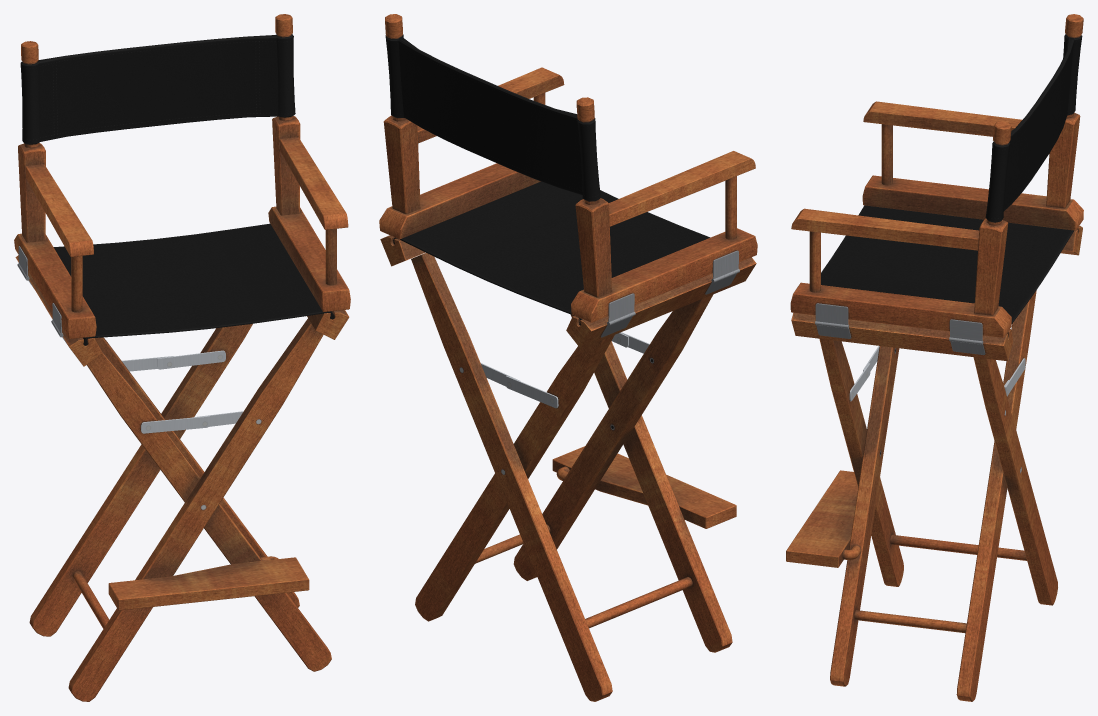
3 renders of one model, left to right at view 1: azimuth 30°, elevation 25°; view 2: azimuth 150°, elevation 25°; view 3: azimuth 270°, elevation 25°, orthographic. The views are drawn at different scales.
Parts seen in each view (by area): view 1: backRest_low, seat_low, outer_front_leg_low, outer_back_leg_low, inner_front_leg_low, footrest_low, armRest_bottom_L_low, armRest_bottom_R_low, armRest_top_R_low_, armRest_top_L_low, backRest_support_R_low, backRest_support_L_low (+8 smaller); view 2: seat_low, backRest_low, outer_back_leg_low, inner_front_leg_low, inner_back_leg_low, outer_front_leg_low, armRest_bottom_R_low, armRest_bottom_L_low, footrest_low, armRest_top_R_low_, backRest_support_R_low, backRest_support_L_low (+8 smaller); view 3: seat_low, inner_front_leg_low, inner_back_leg_low, backRest_low, outer_back_leg_low, armRest_bottom_R_low, armRest_bottom_L_low, outer_front_leg_low, footrest_low, armRest_top_L_low, legs_top_L_low, armRest_top_R_low_ (+8 smaller).
Part boxes in pixels (x1,y1,x2,y2): backRest_low: (20, 34, 295, 144); seat_low: (53, 223, 334, 345); outer_front_leg_low: (68, 318, 323, 701); outer_back_leg_low: (29, 323, 252, 636); inner_front_leg_low: (87, 349, 331, 671); footrest_low: (108, 557, 309, 610); armRest_bottom_L_low: (268, 206, 350, 311); armRest_bottom_R_low: (14, 233, 96, 339); armRest_top_R_low_: (25, 164, 93, 256); armRest_top_L_low: (279, 137, 348, 229); backRest_support_R_low: (18, 41, 45, 242); backRest_support_L_low: (272, 14, 300, 215); seat_low: (393, 181, 710, 325); backRest_low: (385, 34, 600, 201); outer_back_leg_low: (411, 253, 612, 701); inner_front_leg_low: (513, 294, 713, 580); inner_back_leg_low: (415, 335, 614, 621); outer_front_leg_low: (571, 314, 732, 652); armRest_bottom_R_low: (571, 228, 757, 322); armRest_bottom_L_low: (379, 163, 540, 239); footrest_low: (552, 446, 736, 528); armRest_top_R_low_: (609, 151, 755, 226); backRest_support_R_low: (575, 97, 612, 297); backRest_support_L_low: (383, 14, 420, 214); seat_low: (821, 205, 1073, 323); inner_front_leg_low: (830, 346, 899, 686); inner_back_leg_low: (956, 290, 1036, 701); backRest_low: (985, 34, 1082, 222); outer_back_leg_low: (973, 357, 1057, 605); armRest_bottom_R_low: (862, 175, 1083, 230); armRest_bottom_L_low: (790, 282, 1011, 337); outer_front_leg_low: (819, 338, 903, 586); footrest_low: (786, 470, 857, 567); armRest_top_L_low: (791, 208, 979, 250); legs_top_L_low: (791, 312, 1013, 361); armRest_top_R_low_: (863, 101, 1022, 136).
Bounding box in the file's own units: 0.8442 × 1.59 × 0.7332.
1 material, 1 textured.
